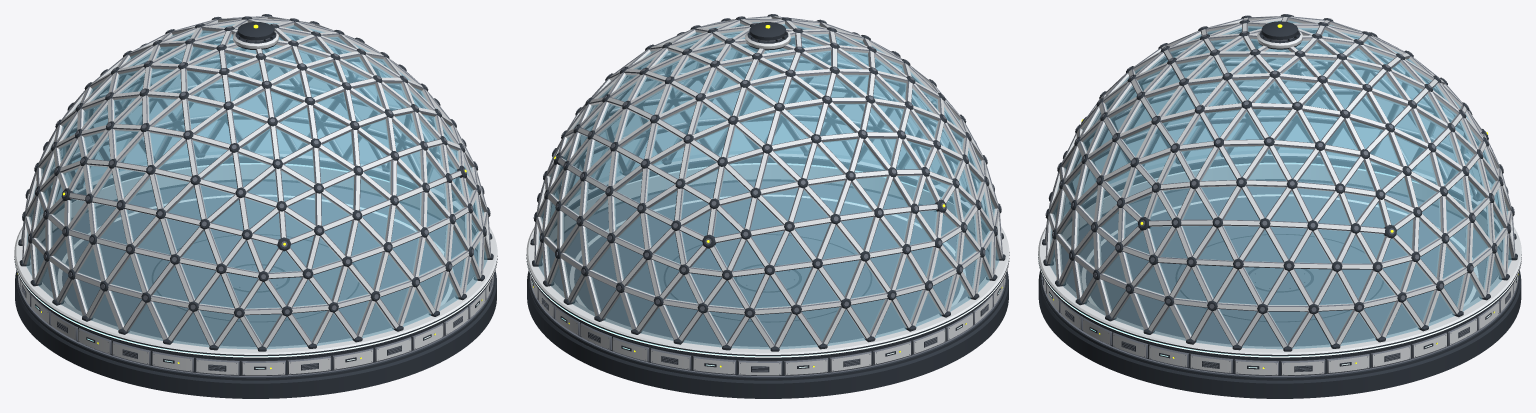
Rendered from Dome_16m.fbx.
The picture shows the model from 3 angles, left to right: view 1: azimuth 30°, elevation 25°; view 2: azimuth 150°, elevation 25°; view 3: azimuth 270°, elevation 25°; orthographic projection.
Visible parts, largest first — view 1: Dome_Frame, Dome_Glass, Dome_Base, Dome_Wall; view 2: Dome_Frame, Dome_Glass, Dome_Base, Dome_Wall; view 3: Dome_Frame, Dome_Glass, Dome_Base, Dome_Wall.
Boxes of the visible parts, <box> form: Dome_Frame: <box>14,14,497,359</box>; Dome_Glass: <box>26,23,487,349</box>; Dome_Base: <box>15,181,496,398</box>; Dome_Wall: <box>17,163,494,380</box>; Dome_Frame: <box>526,14,1009,359</box>; Dome_Glass: <box>538,22,998,349</box>; Dome_Base: <box>527,181,1008,398</box>; Dome_Wall: <box>529,163,1006,380</box>; Dome_Frame: <box>1038,14,1521,359</box>; Dome_Glass: <box>1050,20,1511,349</box>; Dome_Base: <box>1038,181,1521,398</box>; Dome_Wall: <box>1040,163,1519,380</box>.
Bounding box in the file's own units: 16.32 × 10.15 × 16.32.
